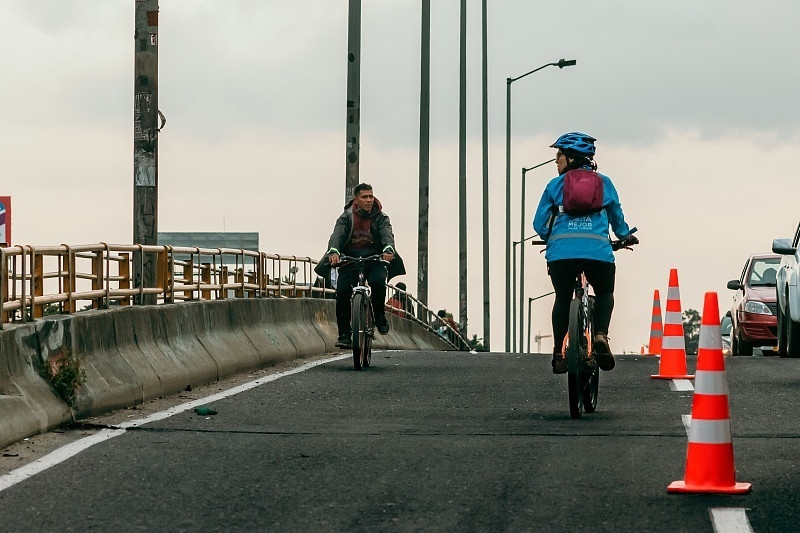non-vehicle: (552, 266, 613, 416), (323, 249, 396, 361)
